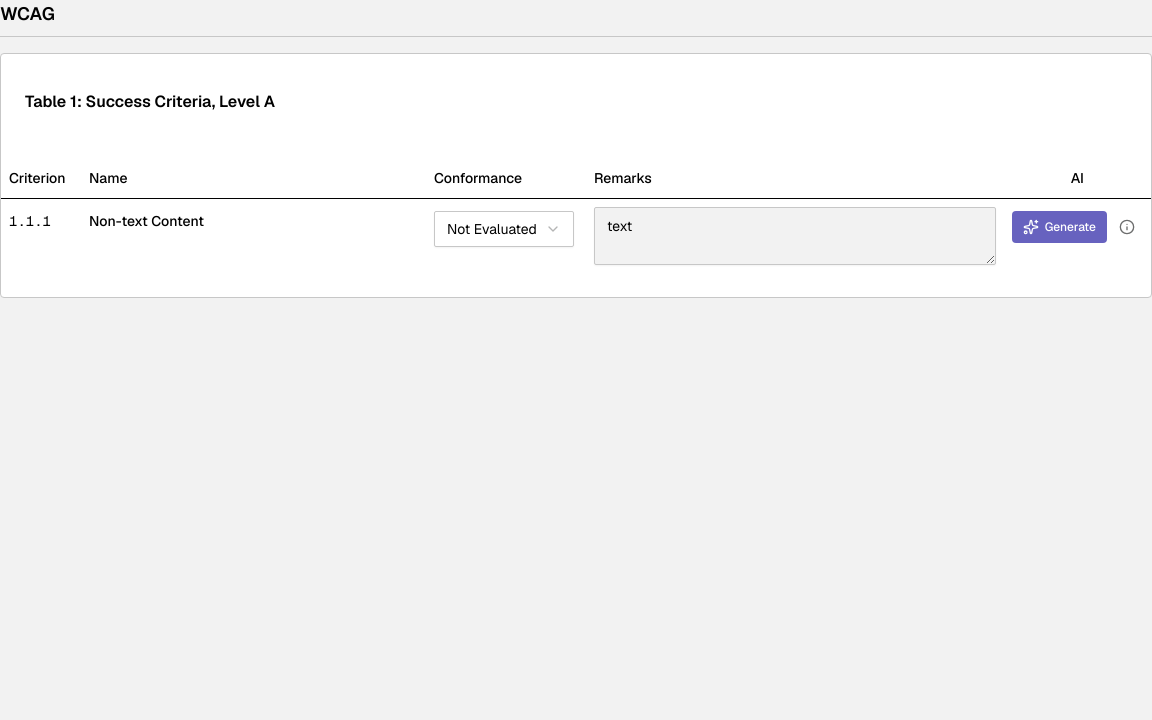
Test: VpatCriteriaTable › shows low confidence warning when ai_confidence is low (via AI info modal)
Click the button named "ai info for 1.1.1". click: point(1127, 226)
box: [1111,210,1143,242]
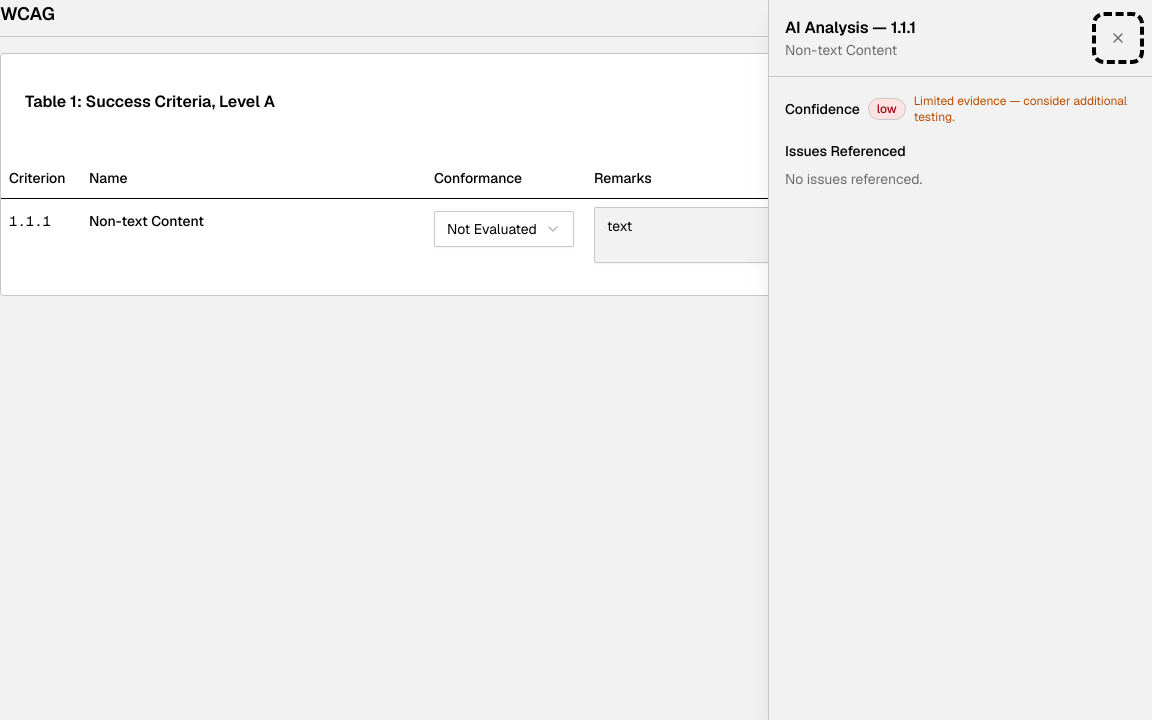
Result: the text "Limited evidence — consider additional testing." is shown at [914,93,1136,125]
